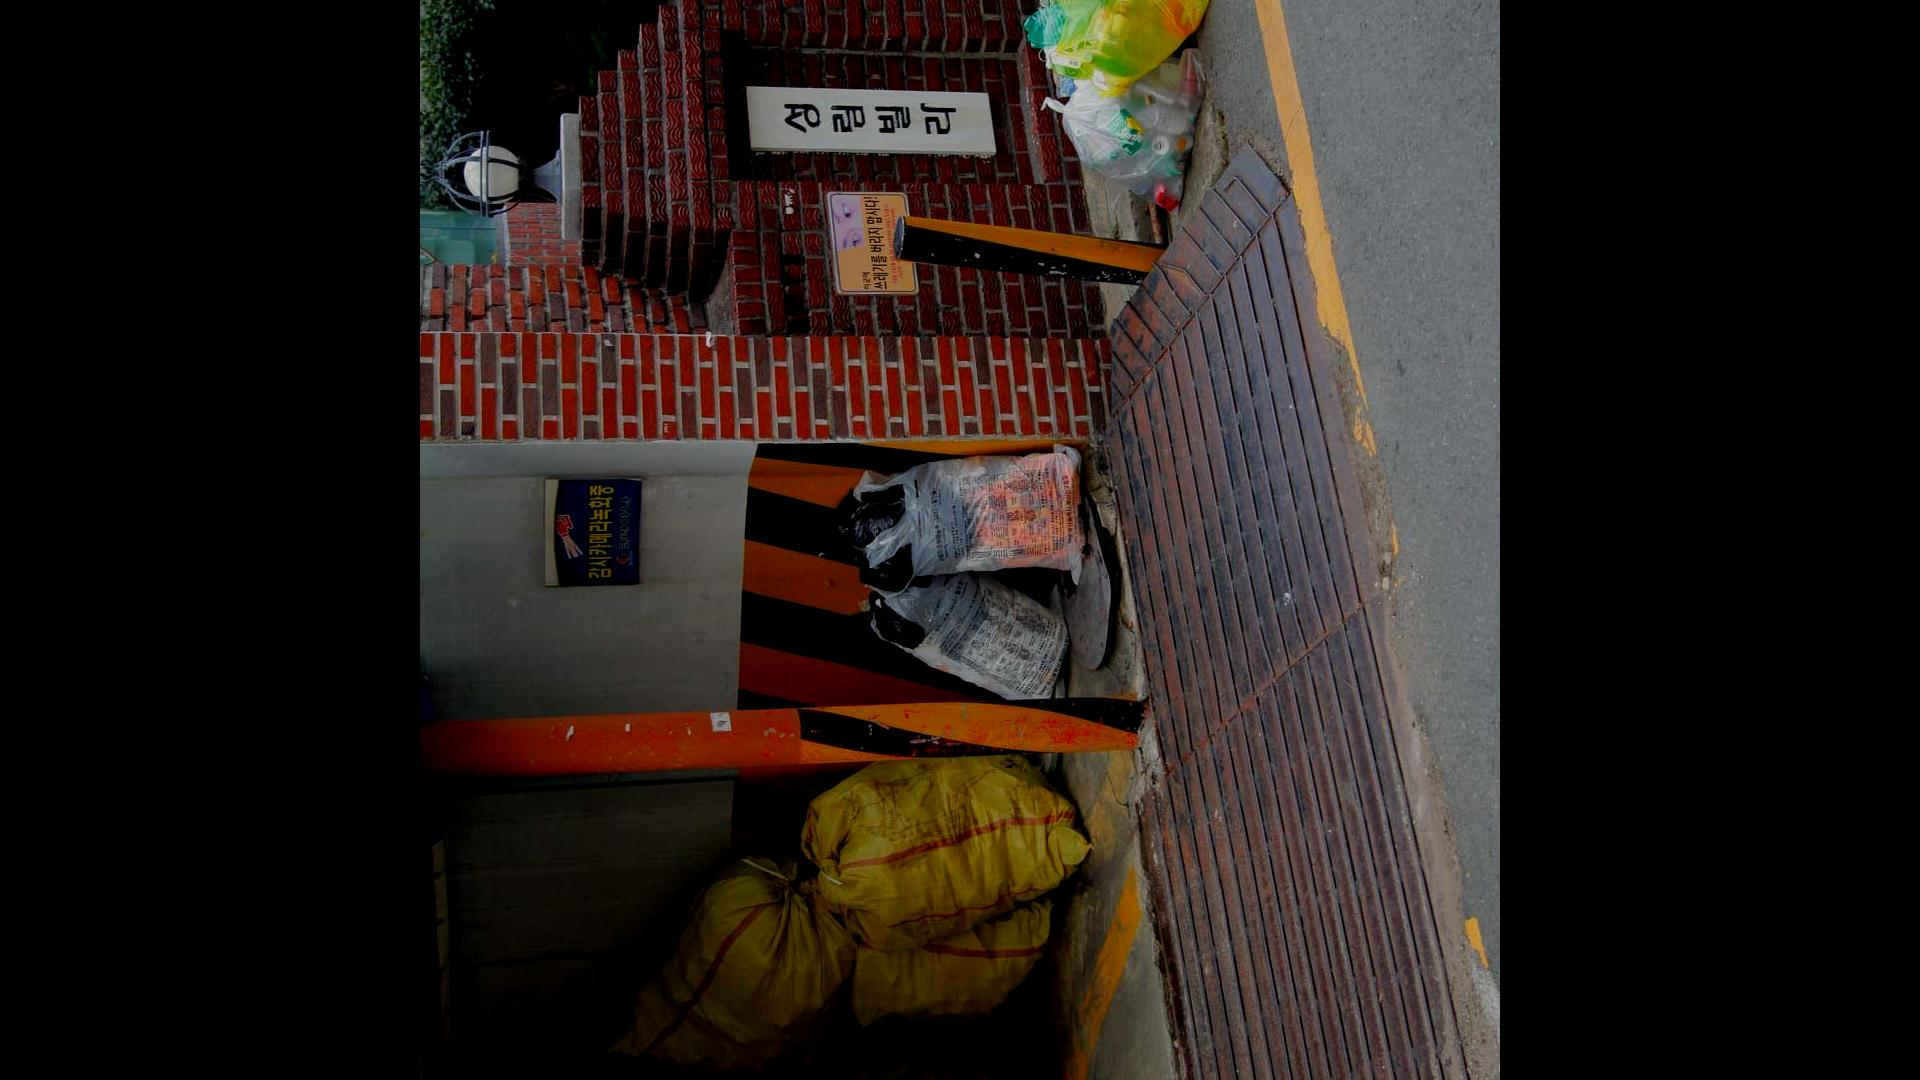white_bag: (833, 434, 1088, 589), (841, 555, 1068, 703), (1035, 36, 1208, 218)
